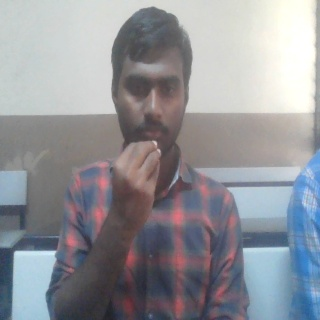Food: (109, 140, 166, 235)
